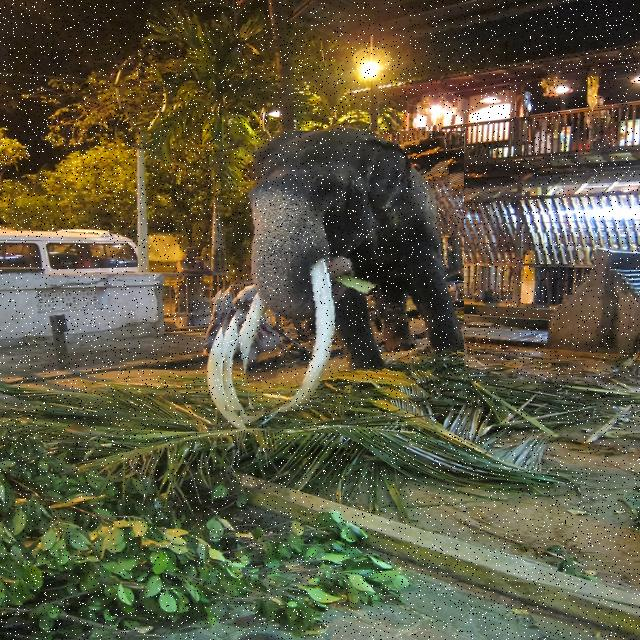elephant: (215, 131, 464, 411)
